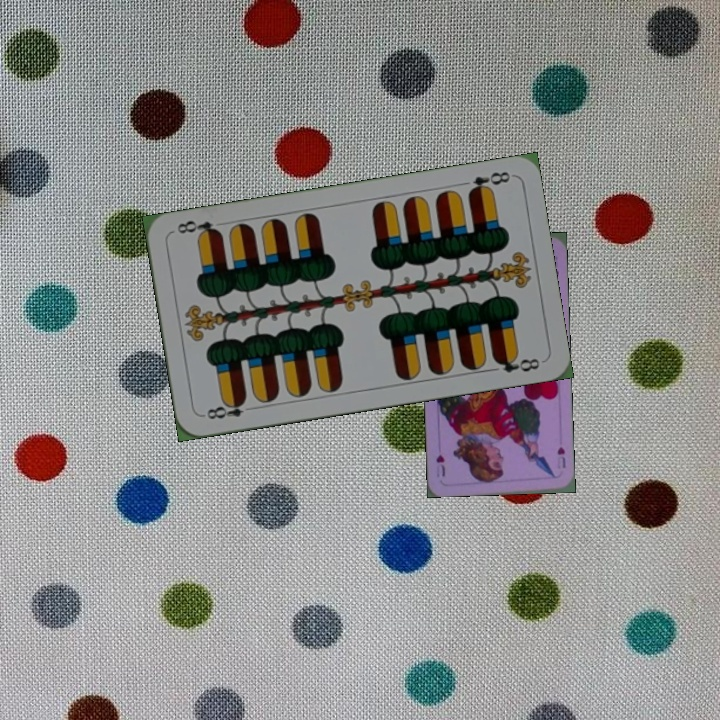E8: (463, 167, 513, 198), (199, 395, 249, 422)
HU: (553, 443, 568, 471)
